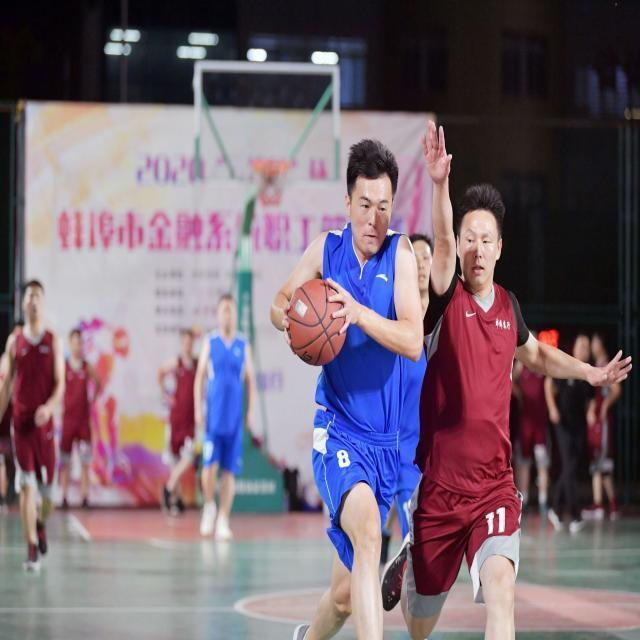ball: (291, 279, 335, 367)
hoop: (249, 158, 300, 171)
